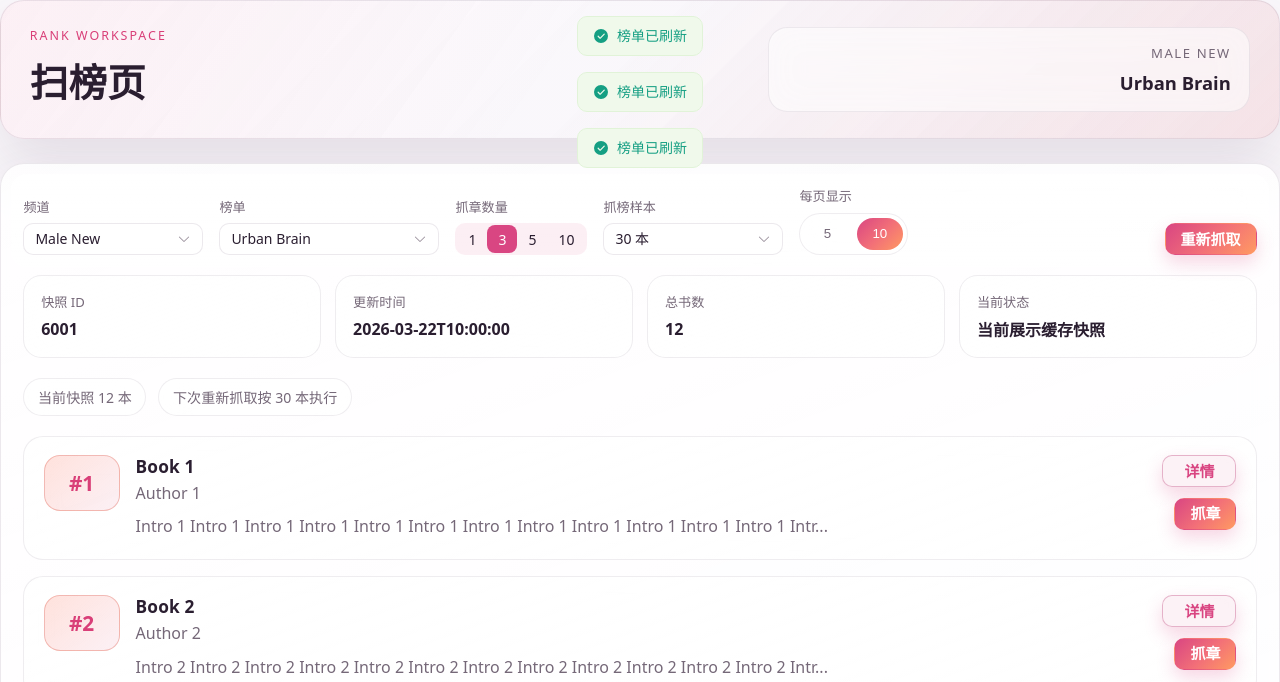
Scenario: RankView › keeps the current rank snapshot visible when refresh fails
Check: the text with test id "rank-current-total" shows "12", box [38, 388, 132, 407]
Click the button with test id "rank-force-refresh" at (1211, 239), box [1165, 223, 1257, 255]
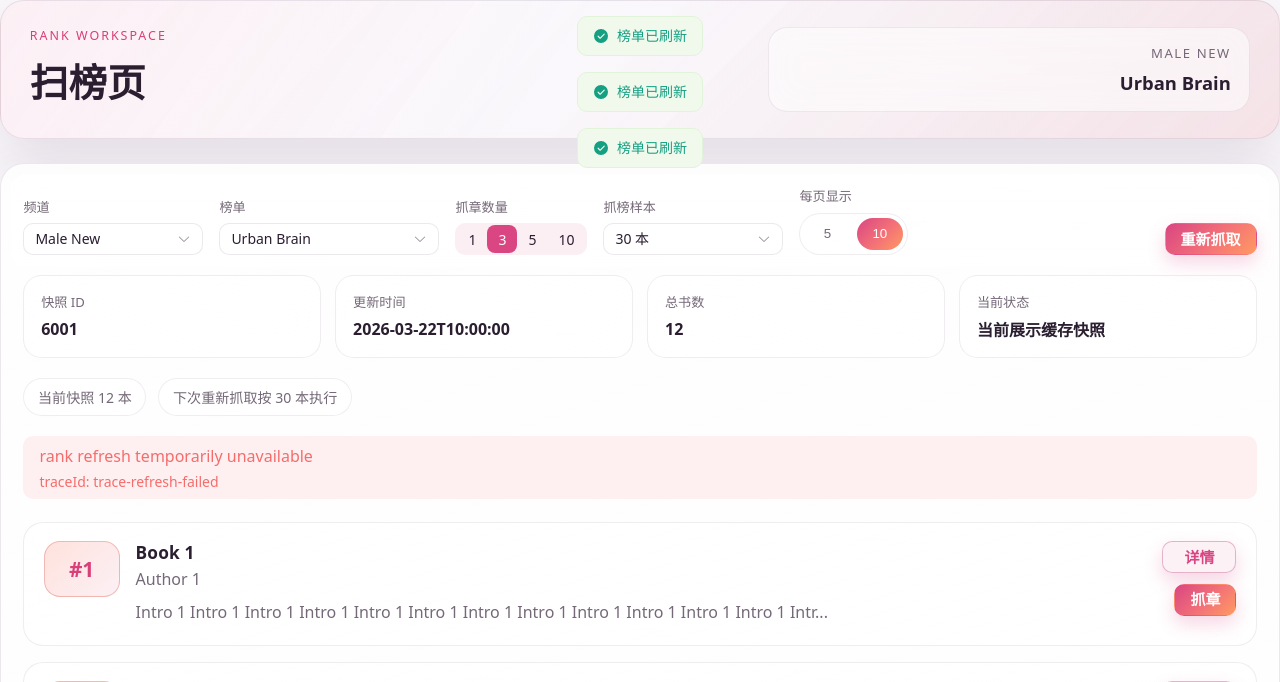
Check: the text "Book 1" is shown, box [136, 541, 195, 564]
Check: the text "rank refresh temporarily unavailable" is shown, box [39, 444, 313, 468]
